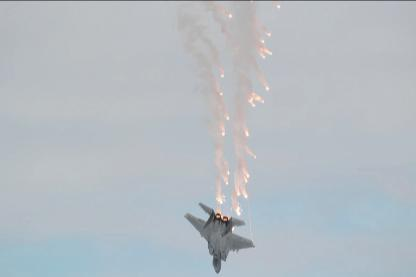F117: (184, 202, 256, 274)
